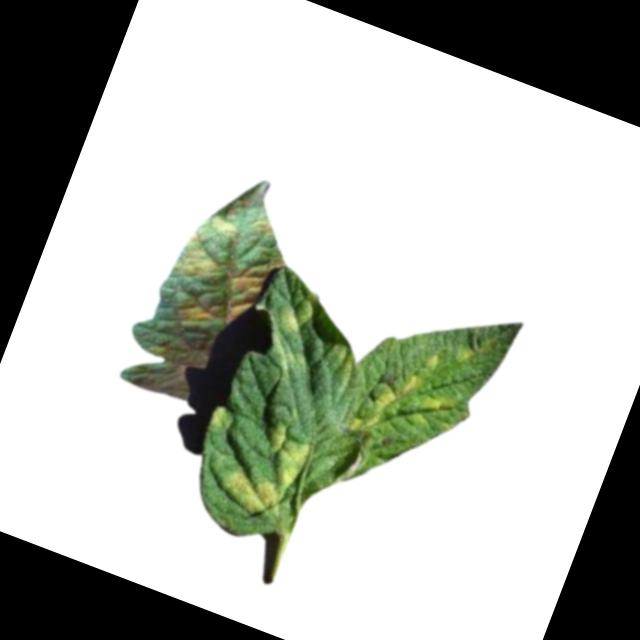Leaf_Mold: (152, 191, 299, 349), (345, 334, 467, 460), (220, 409, 317, 526), (269, 286, 319, 336), (203, 403, 233, 435)
